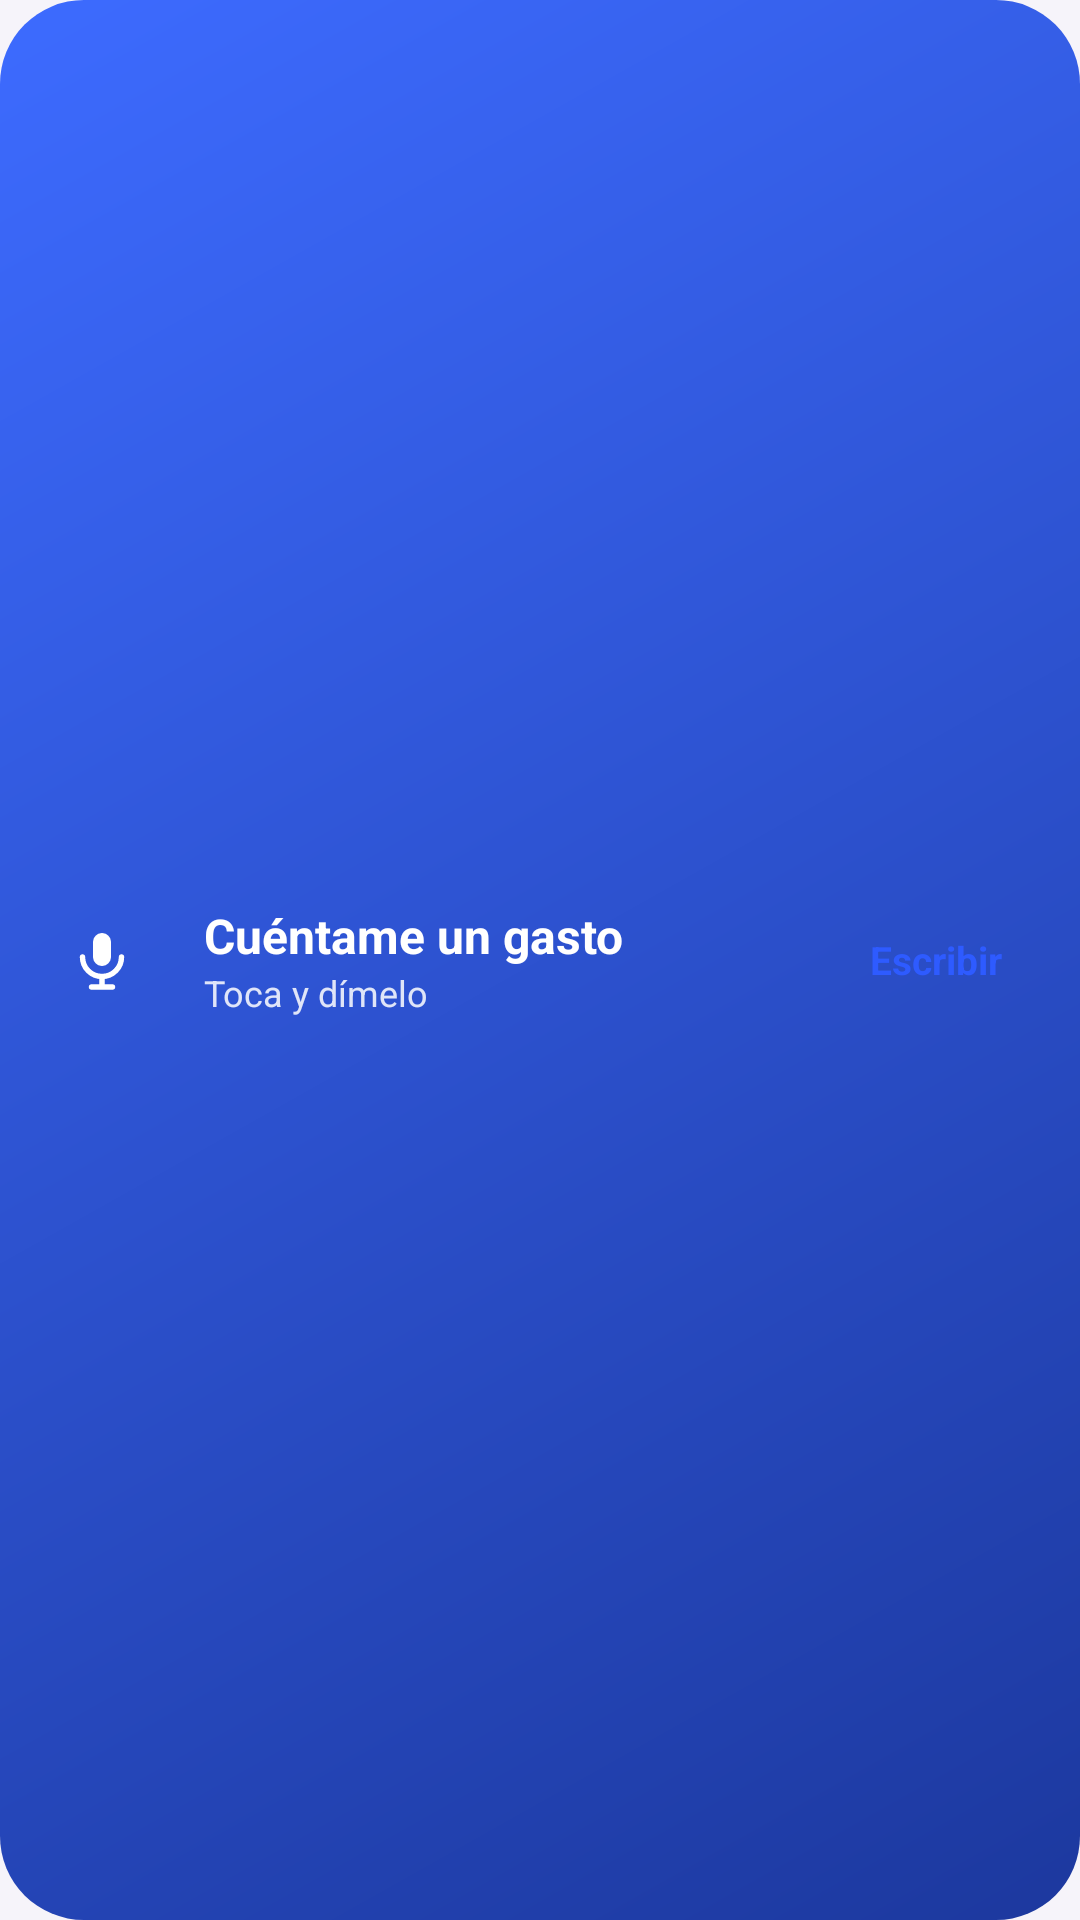

Icon click points for this 1080px×1920px phone screenshot, format (x=x, y=y):
Decir un gasto con la voz: (x=102, y=961)
